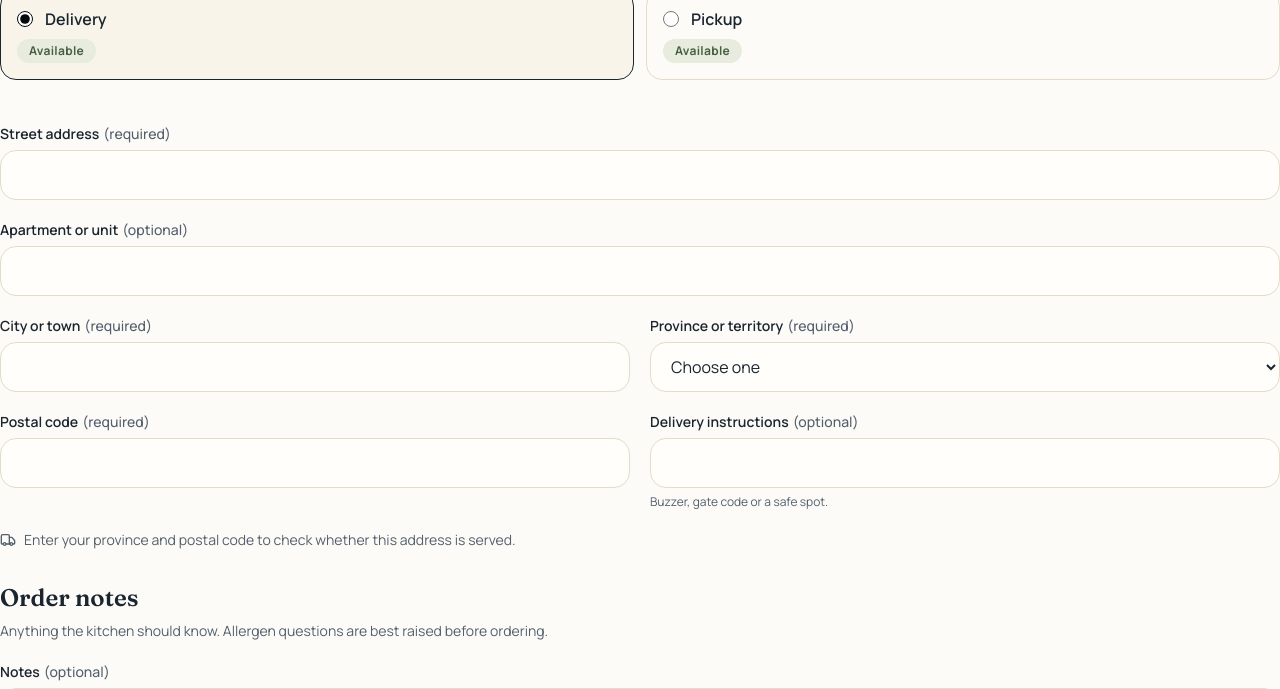
Test case: CustomerForm: fulfilment › rejects an address outside every configured service area
(page scrolled)
Type "K1A 0B1" into the field labelled "Postal code(required)" at (315, 462), box [0, 438, 630, 488]
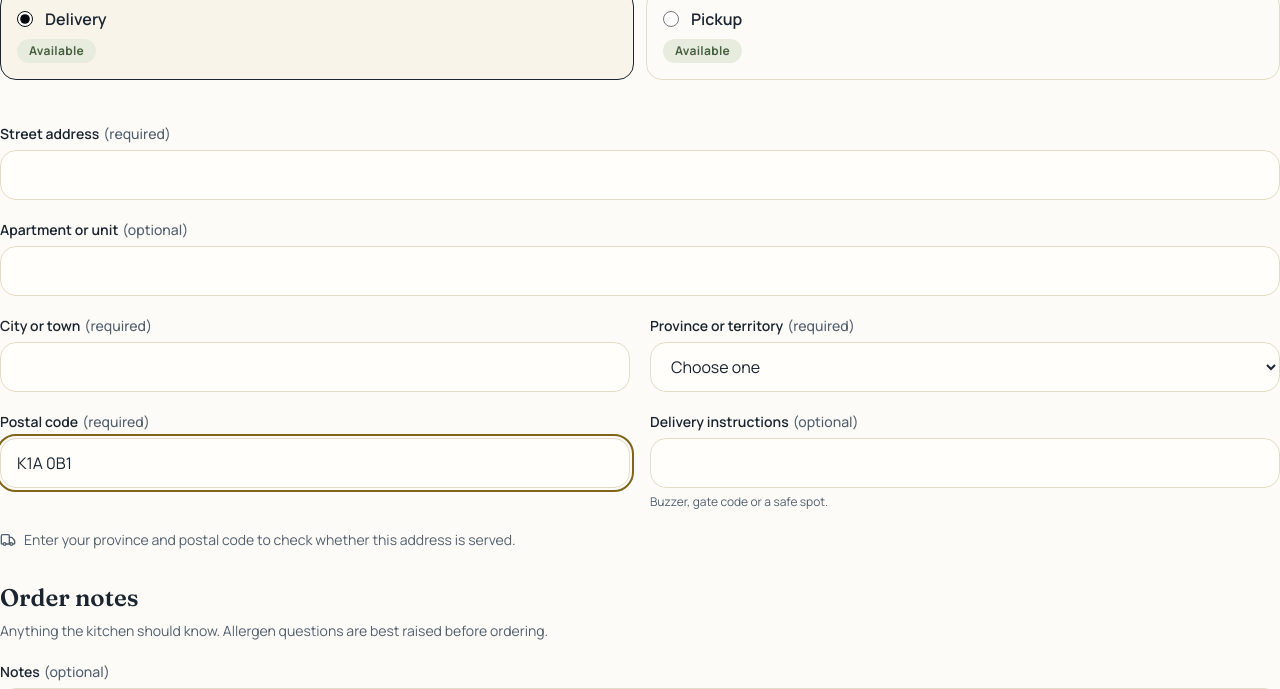
Select "Ontario" in the dropdown labelled "Province or territory(required)" at (965, 366), box [650, 342, 1279, 392]
(page scrolled)
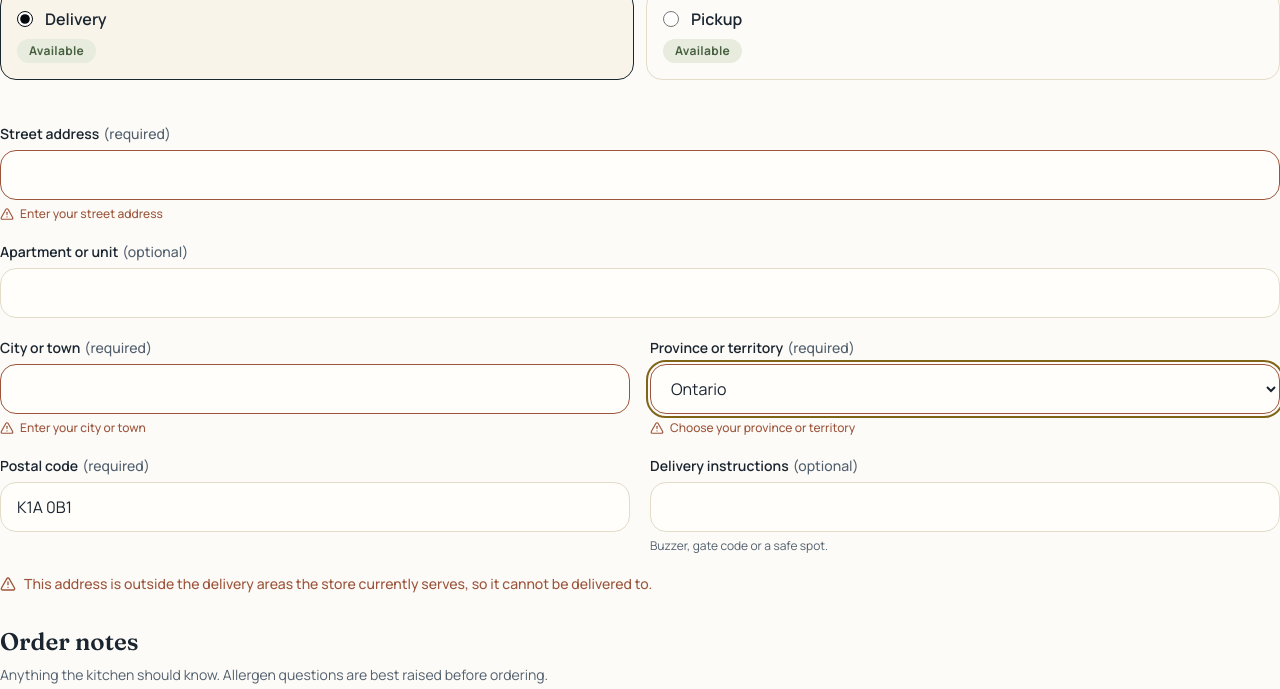
Expected: the message with test id "area-unsupported" is shown, [0, 574, 652, 592]
